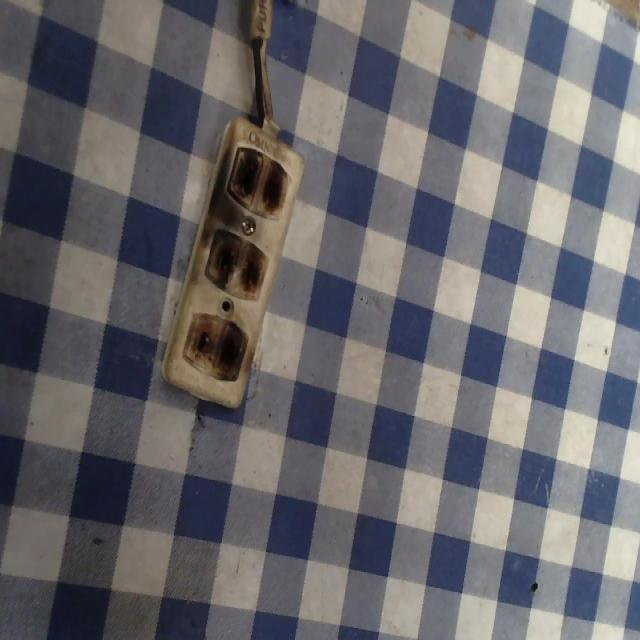-: (176, 306, 258, 391), (200, 225, 275, 304), (218, 137, 291, 216)
